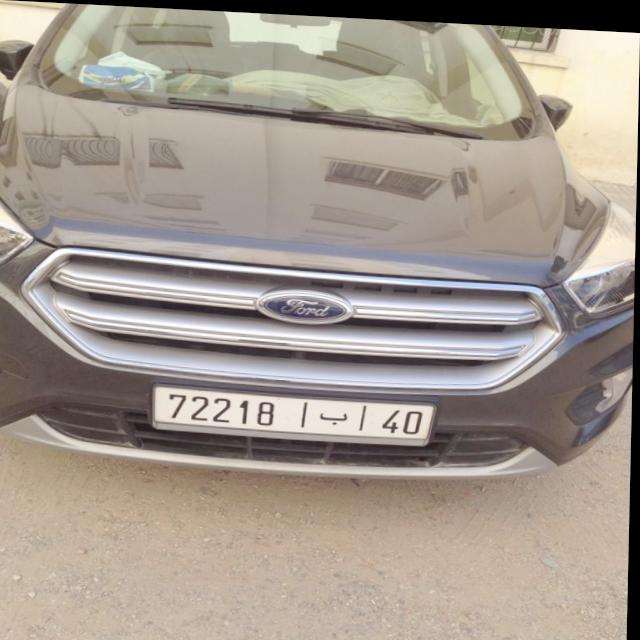License-Plate: (154, 384, 436, 441)
